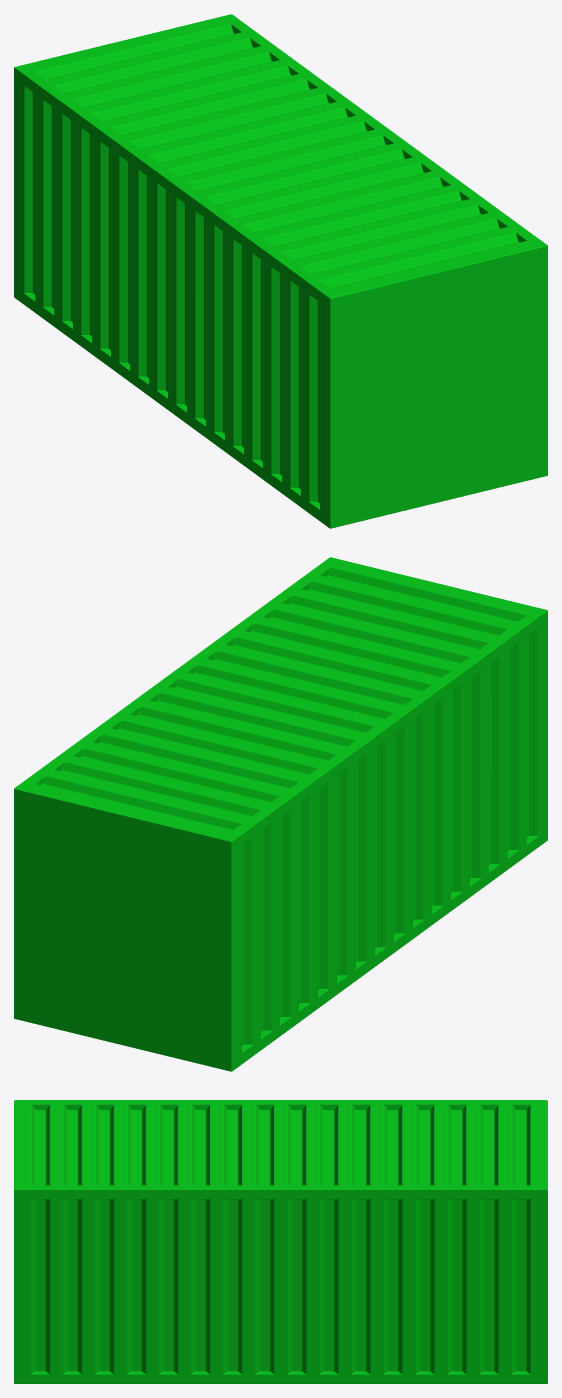
The model's file is shipping-container.obj.
3 renders of one model, top to bottom at view 1: azimuth 30°, elevation 25°; view 2: azimuth 150°, elevation 25°; view 3: azimuth 270°, elevation 25°, orthographic. The views are drawn at different scales.
Visible parts, largest first — view 1: Cube.001_Cube.002; view 2: Cube.001_Cube.002; view 3: Cube.001_Cube.002.
Boxes of the visible parts, x1,y1,x2,y2 form: Cube.001_Cube.002: (14, 14, 547, 528); Cube.001_Cube.002: (14, 557, 547, 1071); Cube.001_Cube.002: (14, 1100, 547, 1383).
Bounding box in the file's own units: 1.98 × 2 × 4.98.
